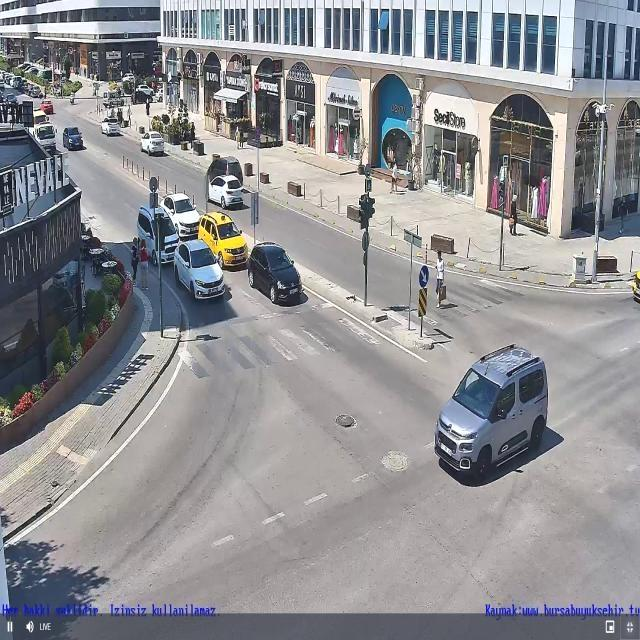Car: (435, 343, 549, 483), (246, 241, 302, 305), (173, 239, 226, 300), (200, 214, 247, 272), (160, 188, 200, 238), (204, 173, 244, 207), (205, 155, 243, 179), (140, 130, 165, 154), (63, 126, 83, 150), (100, 116, 122, 136), (131, 90, 153, 103), (39, 100, 54, 115), (135, 84, 153, 95), (156, 88, 164, 101)
Cycle: (69, 92, 74, 104)
Truck: (31, 123, 57, 154)
Van: (134, 202, 182, 267)
